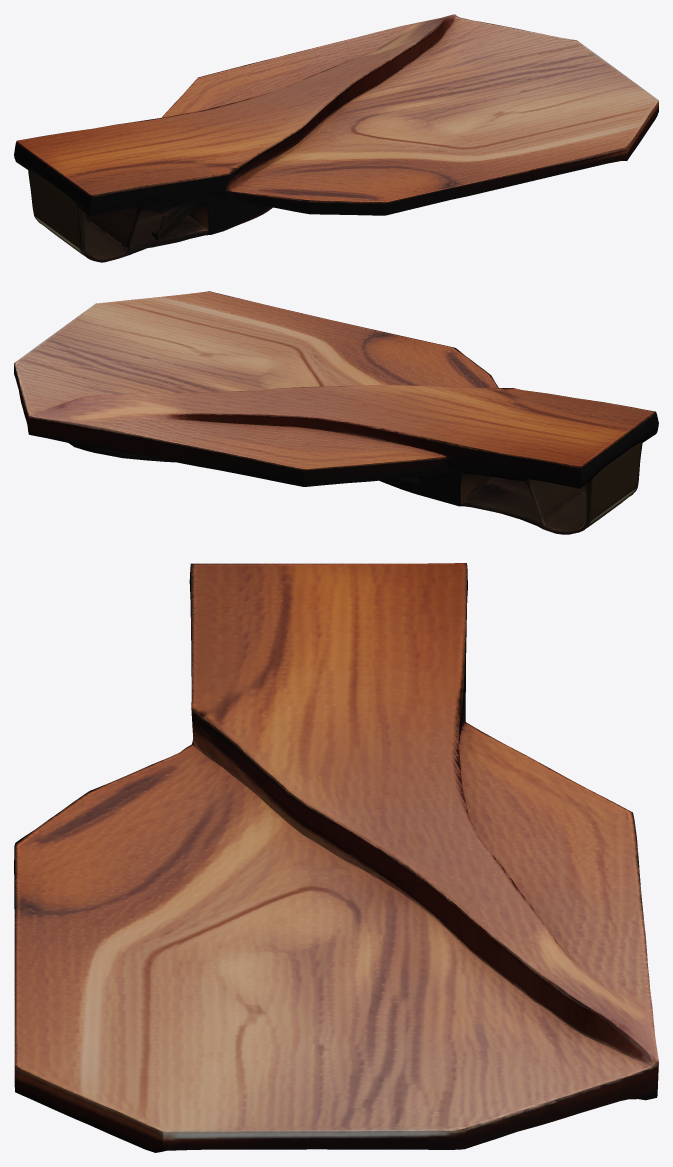
The model's file is wooden-tie-clip-futuristic.jpeg.glb.
3 renders of one model, top to bottom at view 1: azimuth 30°, elevation 25°; view 2: azimuth 150°, elevation 25°; view 3: azimuth 270°, elevation 25°, orthographic. The views are drawn at different scales.
Visible parts, largest first — view 1: world; view 2: world; view 3: world.
Boxes of the visible parts, x1,y1,x2,y2 form: world: (14,14,658,262); world: (14,291,658,534); world: (14,563,658,1152).
Size of the model in its own units: 0.9844 by 0.1406 by 0.5309.
Materials: 1 (1 with a texture image).
